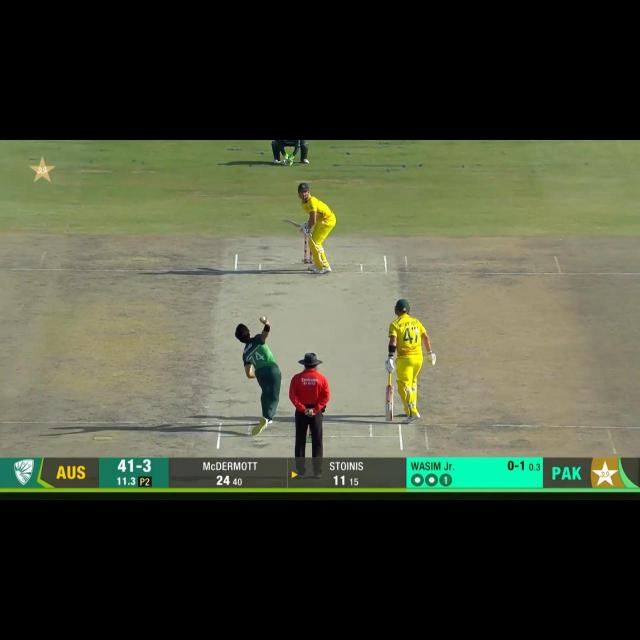bat: (386, 386, 395, 423), (281, 217, 303, 229)
toe: (384, 409, 394, 423), (282, 217, 292, 224)
